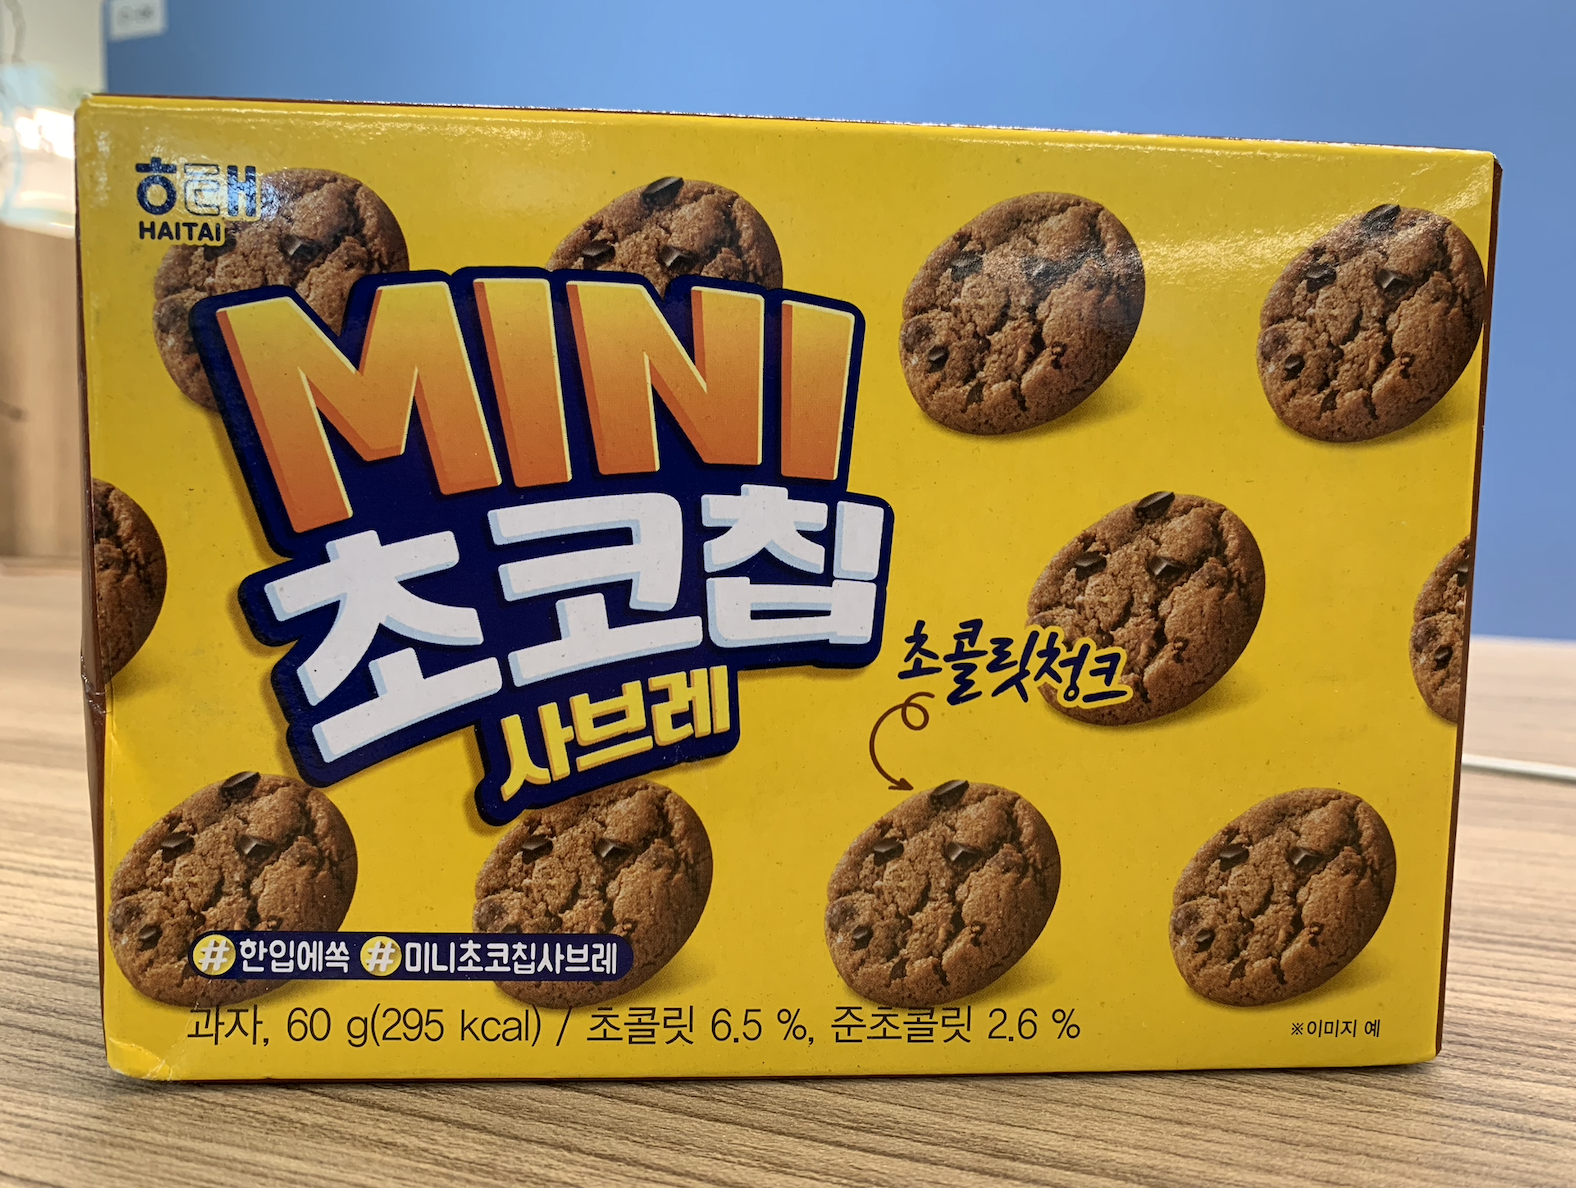cookies_50g: (124, 153, 1423, 1066)
